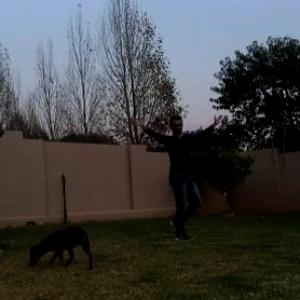takeoff: (112, 112, 228, 239)
